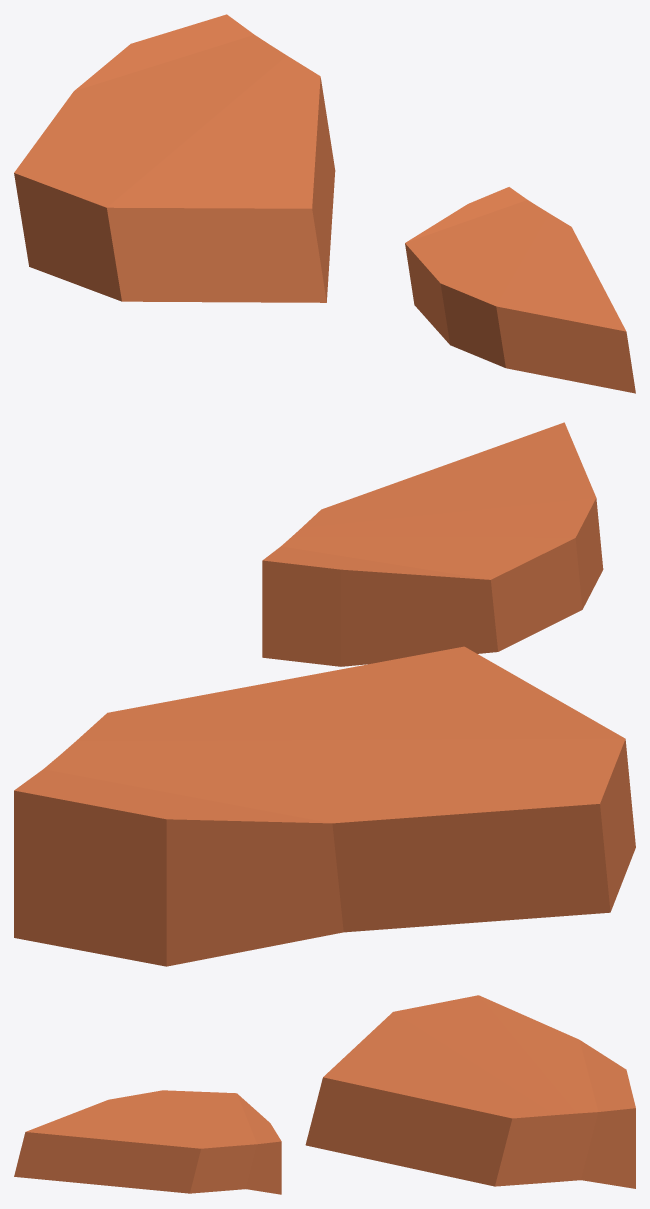
File: koifishLeftFin.glb
The picture shows the model from 3 angles, top to bottom: view 1: azimuth 30°, elevation 25°; view 2: azimuth 150°, elevation 25°; view 3: azimuth 270°, elevation 25°; orthographic projection. The views are drawn at different scales.
Visible parts, largest first — view 1: Fin2; view 2: Fin2; view 3: Fin2.
Part boxes in pixels (x1,y1,x2,y2): Fin2: [14, 14, 635, 393]; Fin2: [14, 422, 635, 966]; Fin2: [14, 995, 635, 1194].
Size of the model in its own units: 4.66 by 1.23 by 8.56.
